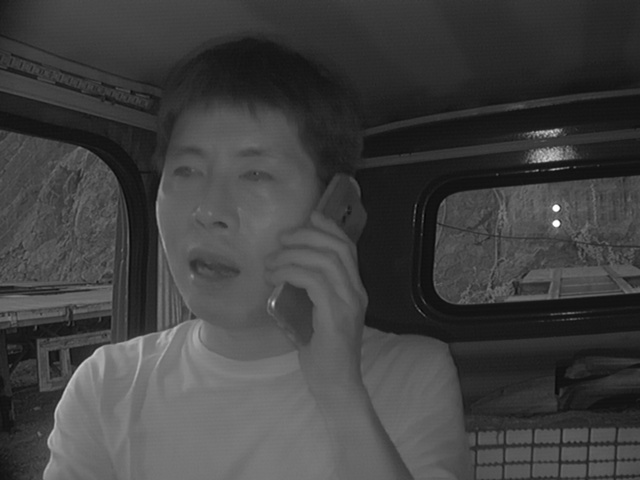hand: (262, 213, 382, 374)
